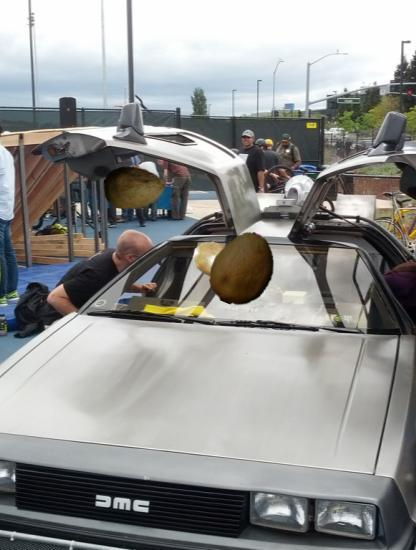Cactus: (192, 231, 254, 293)
Papaya: (206, 231, 282, 307), (103, 157, 166, 220)
